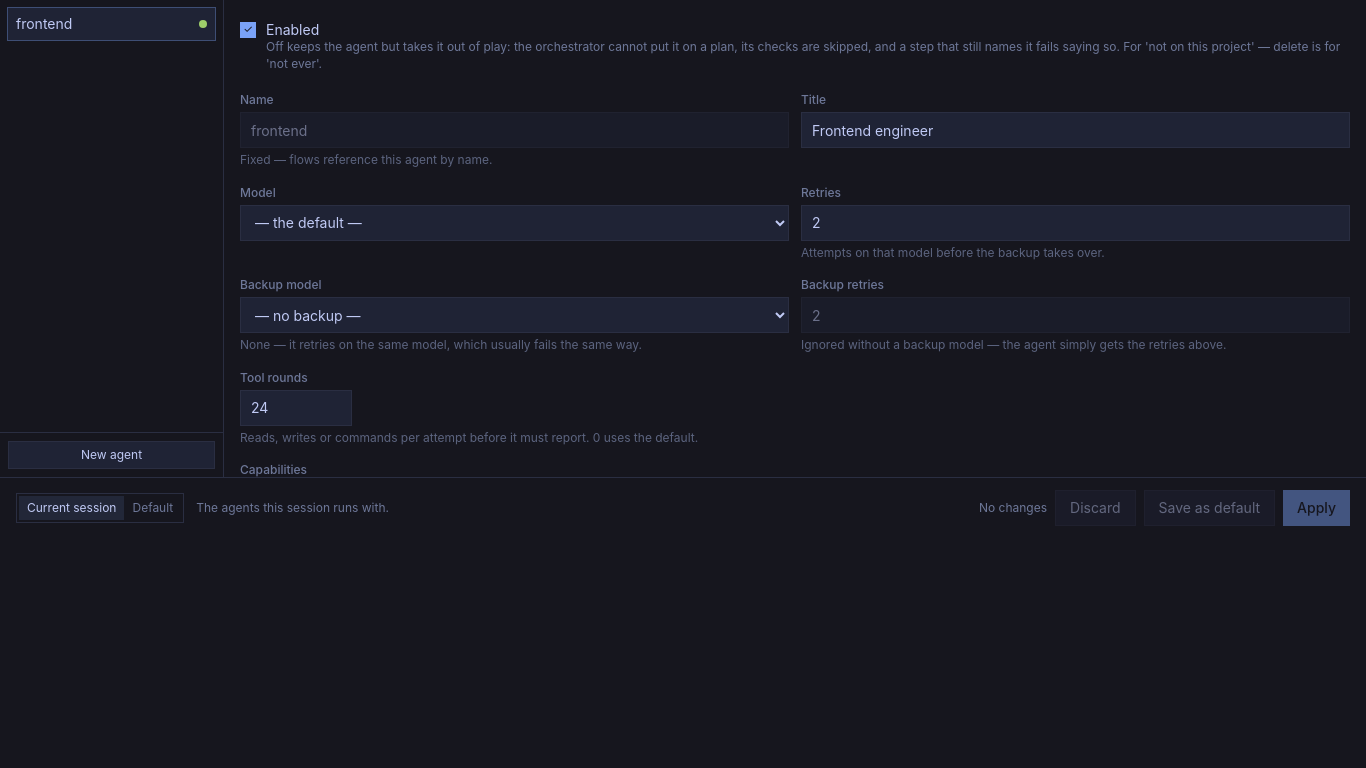
Scenario: the agents editor › discards every pending change, including an added agent
Click the button "New agent" at x=112, y=455, box [8,441,215,469]
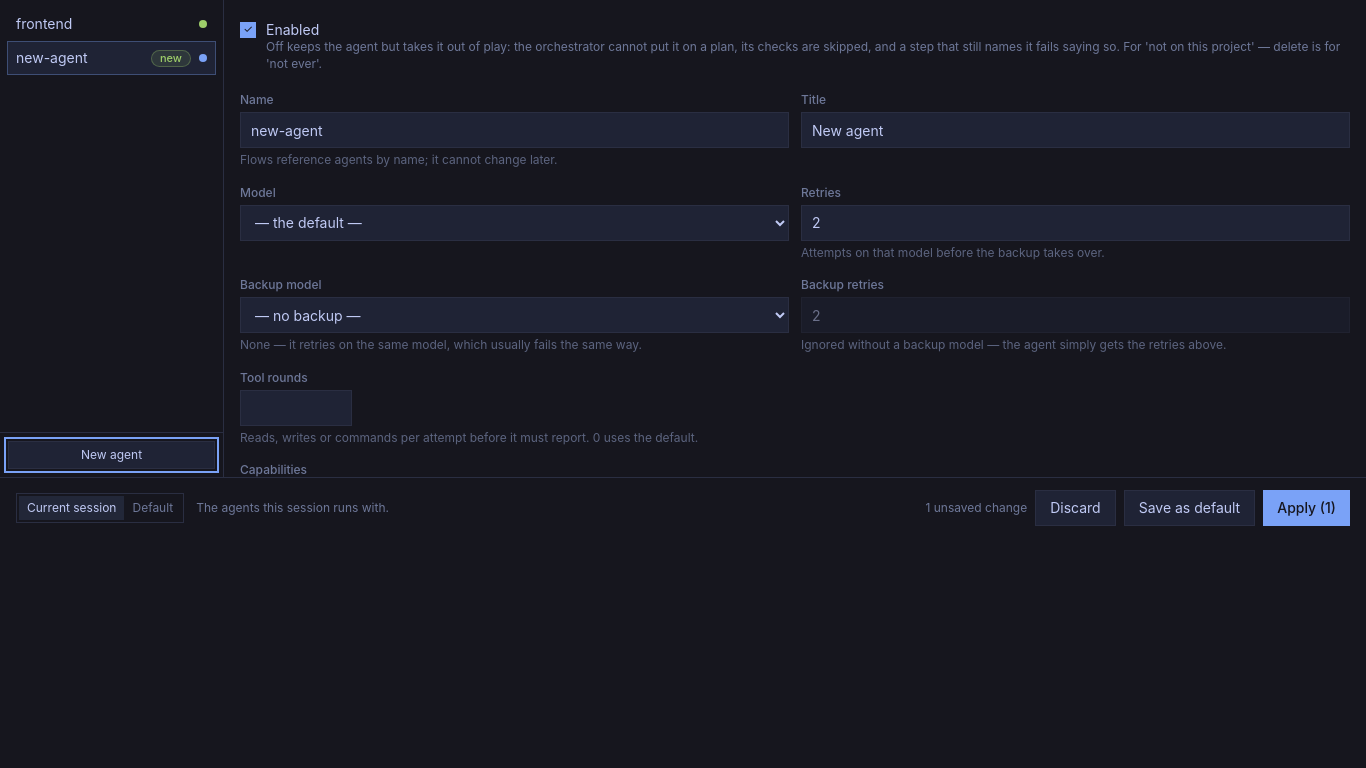
Now the text "new-agent" is shown, box [16,49,88,66]
Click the button "Discard" at x=1075, y=508, box [1035,490,1116,526]
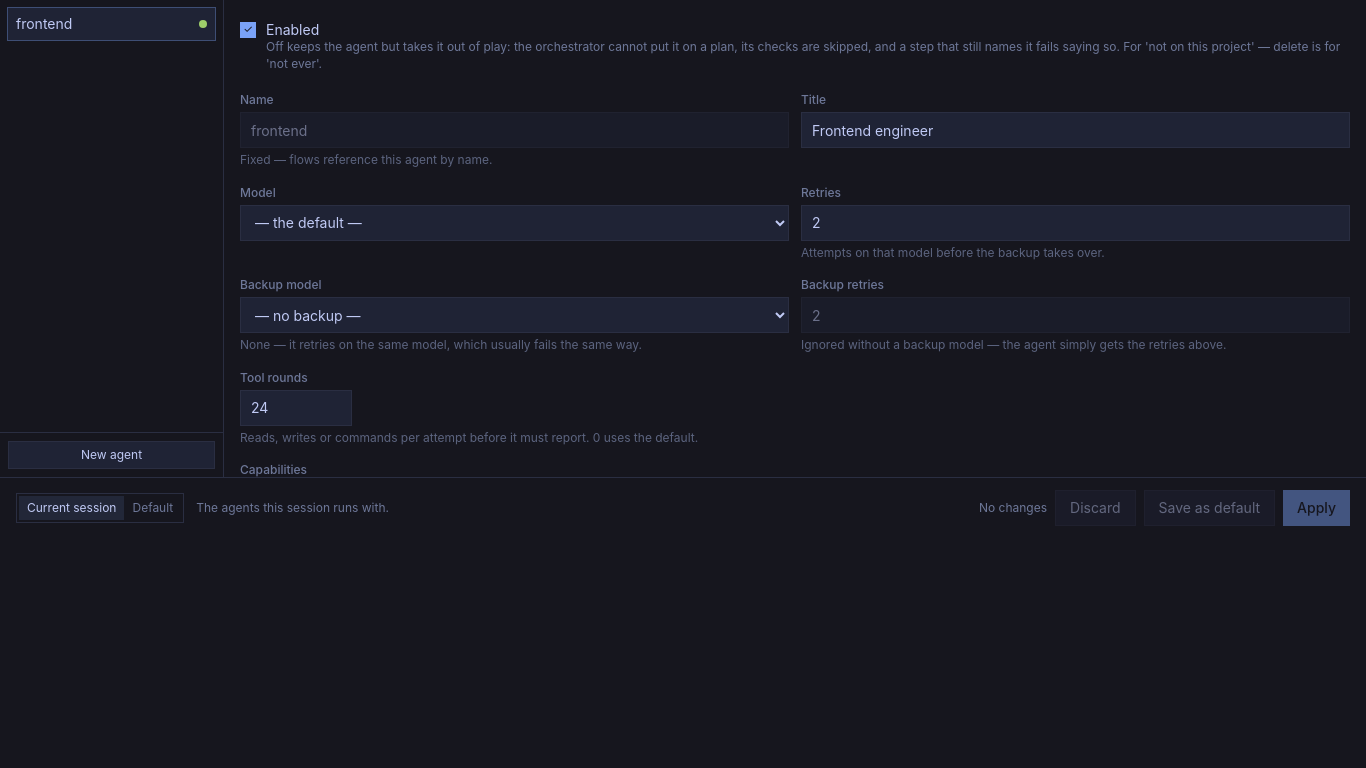
Now the button "new-agent" is gone
